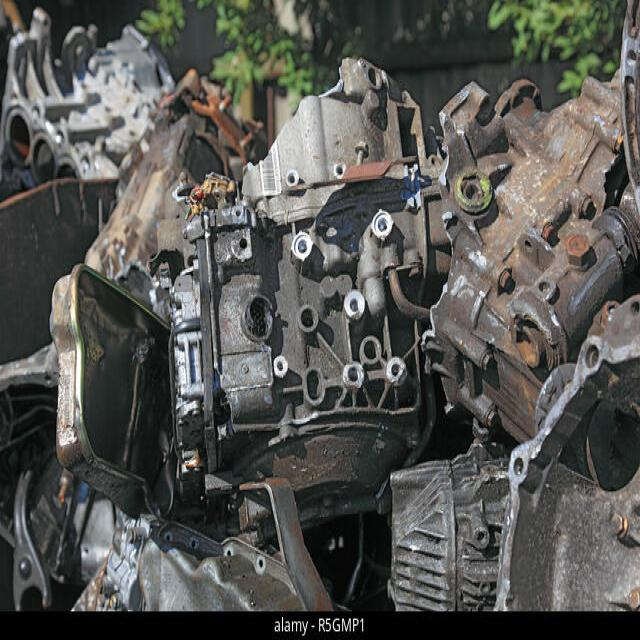metal: (127, 146, 561, 556)
